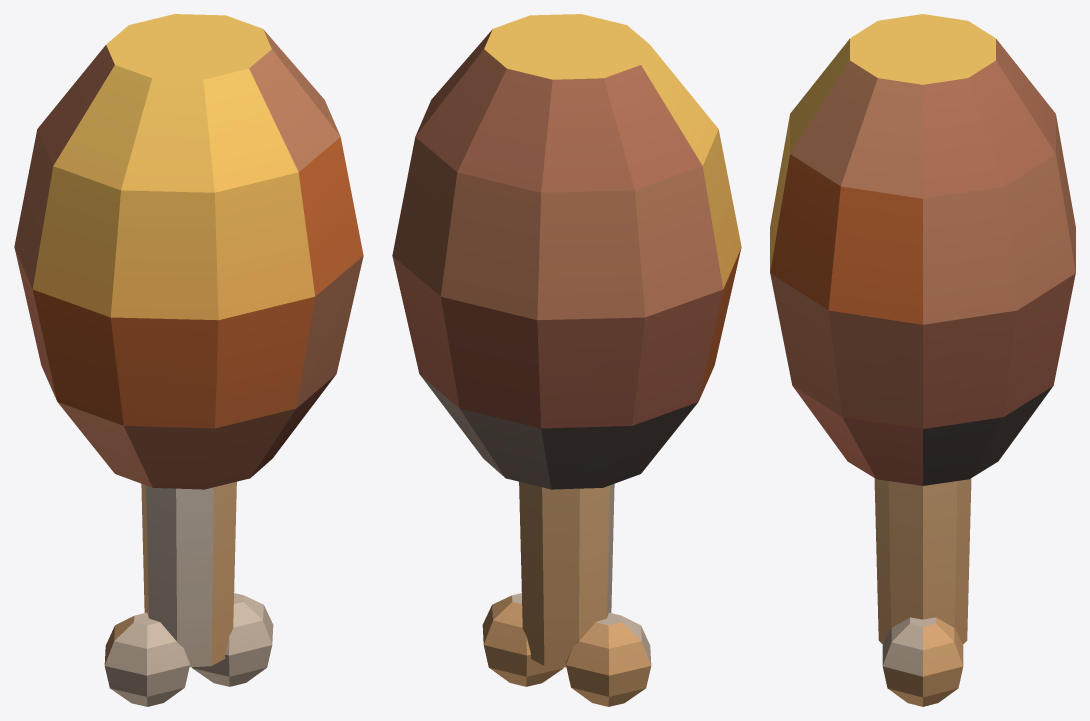
Rendered from source.glb.
The picture shows the model from 3 angles, left to right: view 1: azimuth 30°, elevation 25°; view 2: azimuth 150°, elevation 25°; view 3: azimuth 270°, elevation 25°; orthographic projection.
Parts seen in each view (by area): view 1: model; view 2: model; view 3: model.
Part boxes in pixels (box(x1,y1,x2,y2)): model: box(14, 14, 363, 706); model: box(392, 14, 741, 706); model: box(770, 14, 1075, 706).
Size of the model in its own units: 0.304 by 0.5968 by 0.2625.
Materials: 1 (1 with a texture image).
